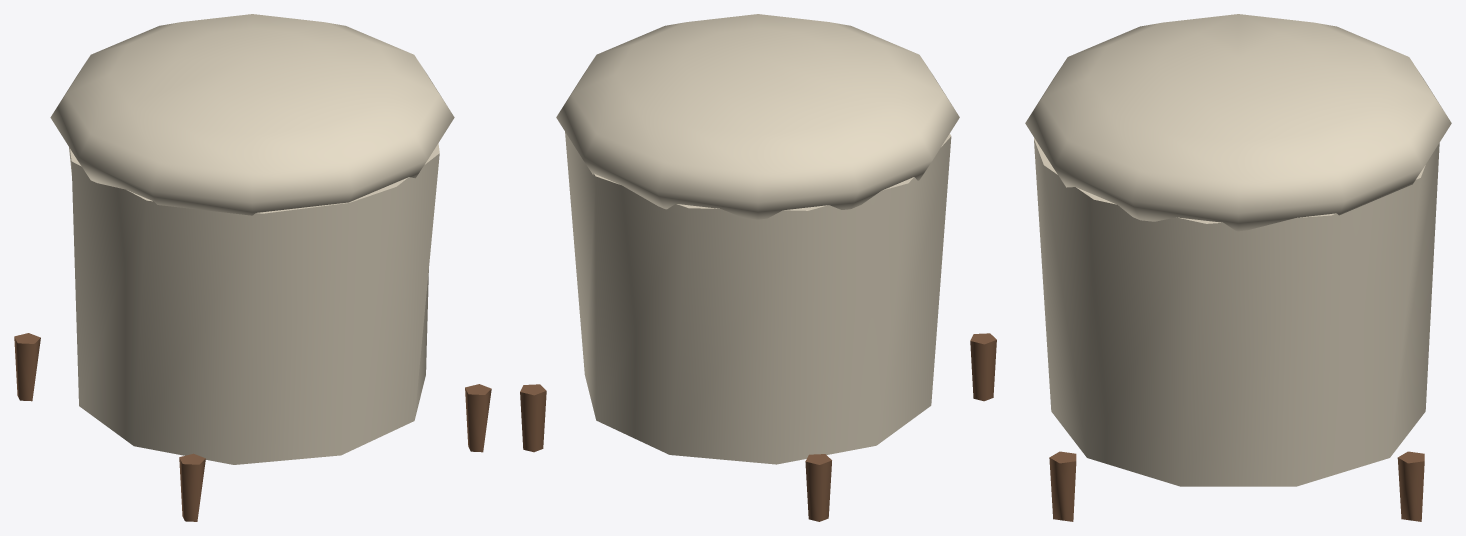
The model's file is studio-ottoman-boucle.lod.glb.
The picture shows the model from 3 angles, left to right: view 1: azimuth 30°, elevation 25°; view 2: azimuth 150°, elevation 25°; view 3: azimuth 270°, elevation 25°; orthographic projection. The views are drawn at different scales.
Parts seen in each view (by area): view 1: part (×2); view 2: part (×2); view 3: part (×2).
Part boxes in pixels (left/top/right/bottom): part (×2): left=14, top=14, right=491, bottom=521; part (×2): left=520, top=14, right=996, bottom=521; part (×2): left=1025, top=14, right=1451, bottom=521.
Size of the model in its own units: 1 by 1 by 1.
